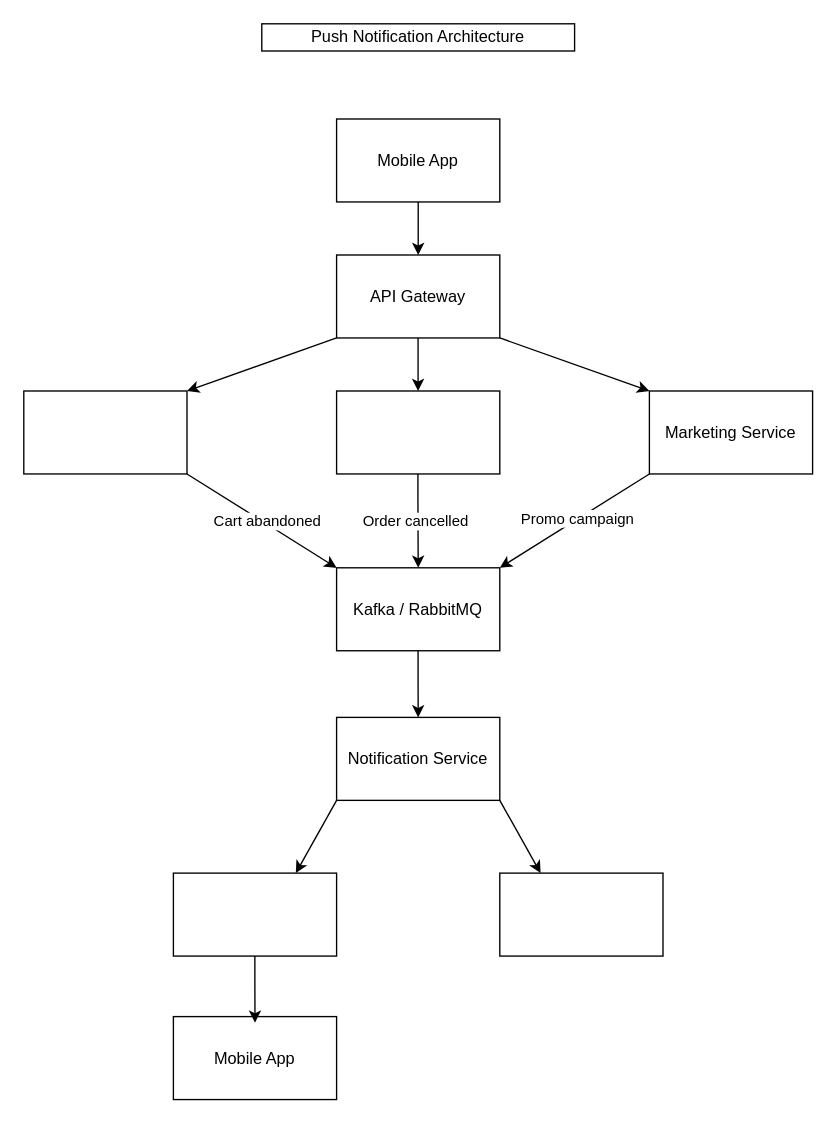
The diagram is 836 pixels wide and 1123 high, and some of its shapes have lost their labels. Here are the shapes that lost their labels. From the top down, the centre of each, then its label:
At point 104,432: "Cart Service".
At point 417,432: "Order Service".
At point 254,914: "FCM / APNs".
At point 580,914: "Device Token DB".
